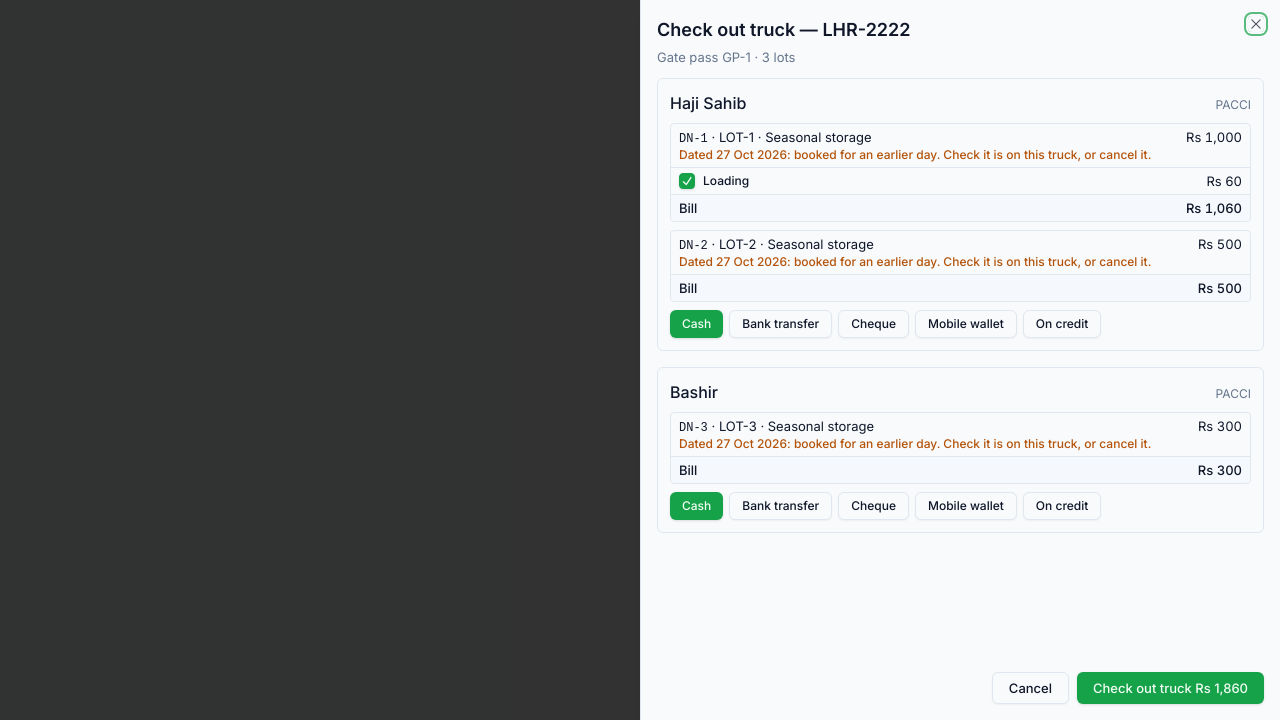
Test: TruckCheckoutSheet › when the truck changed meanwhile it shows why and prices it again
This screenshot has width=1280, height=720.
Check: the text "Bashir" is shown, box 670,380 -> 718,404
Click the button "Check out truck Rs 1,860" at x=1170, y=688, box 1077,672 -> 1264,704
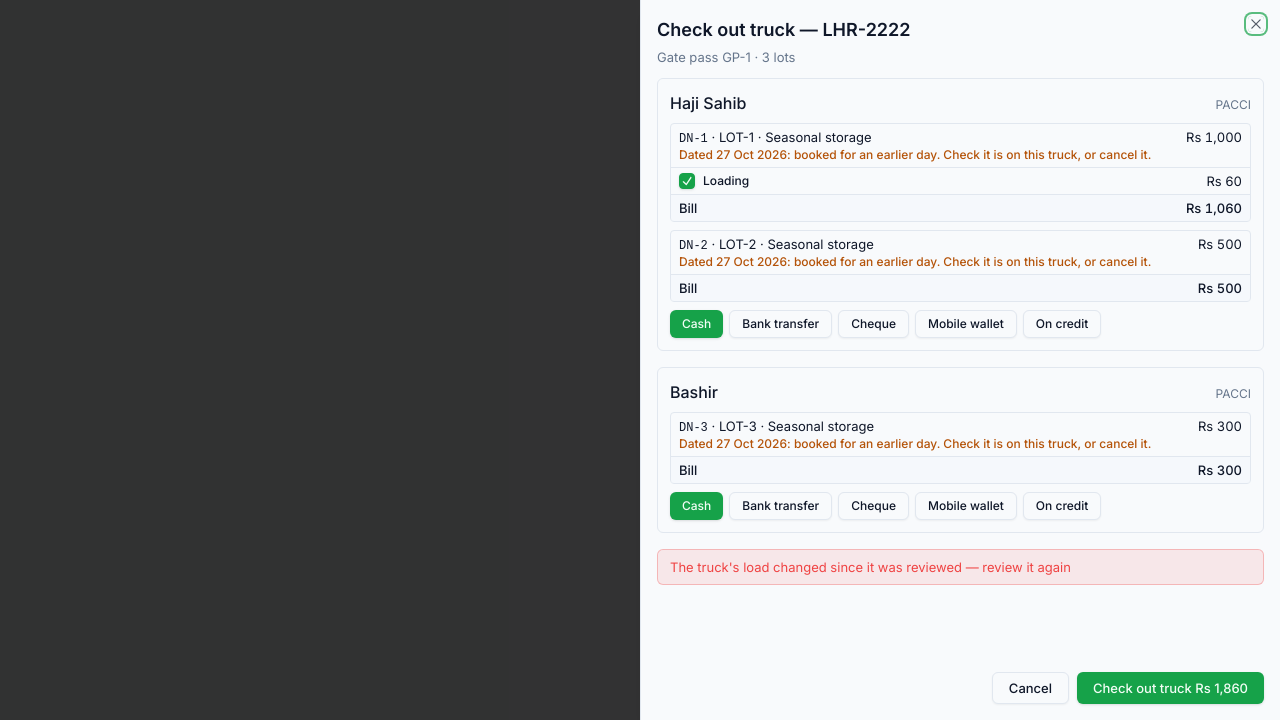
Check: the message shows "load changed", box 670,559 -> 1071,575
